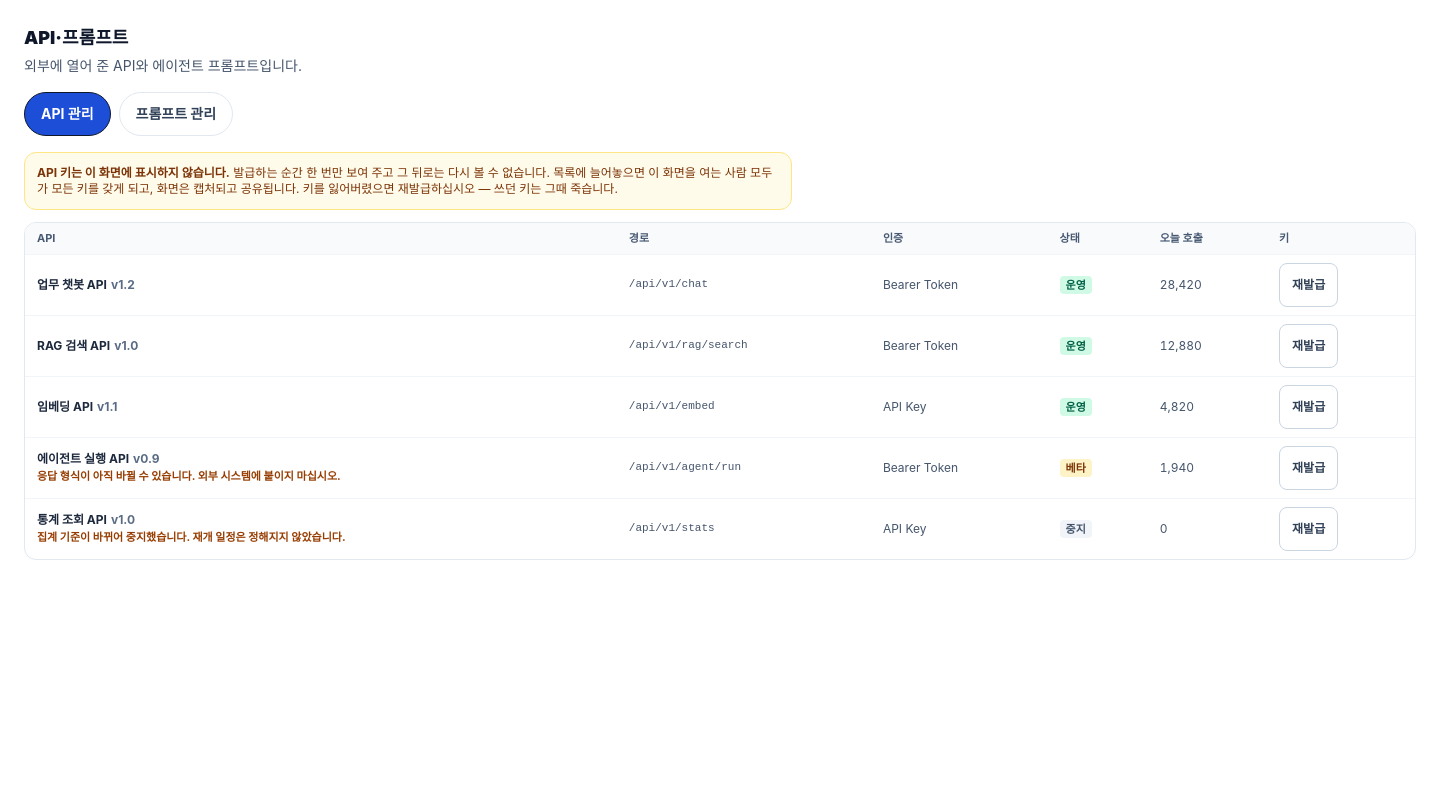
Test case: API · 프롬프트 › 키 재발급은 성공한 척하지 않는다
Click the button "재발급" in the row of "업무 챗봇 API".
click(1309, 285)  # box [1279,263,1338,307]
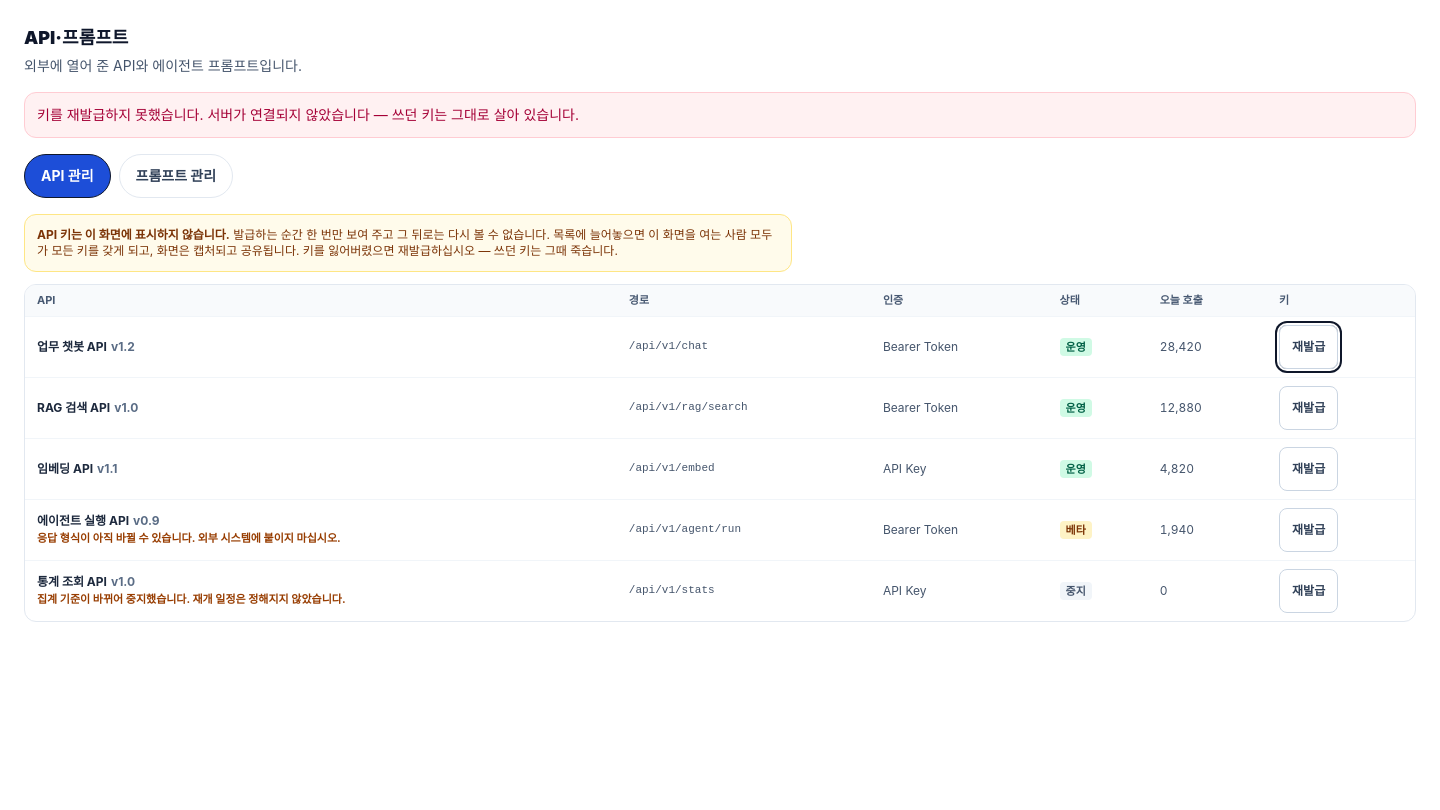
Expected: the message shows "쓰던 키는 그대로 살아 있습니다", [37,106,579,123]
